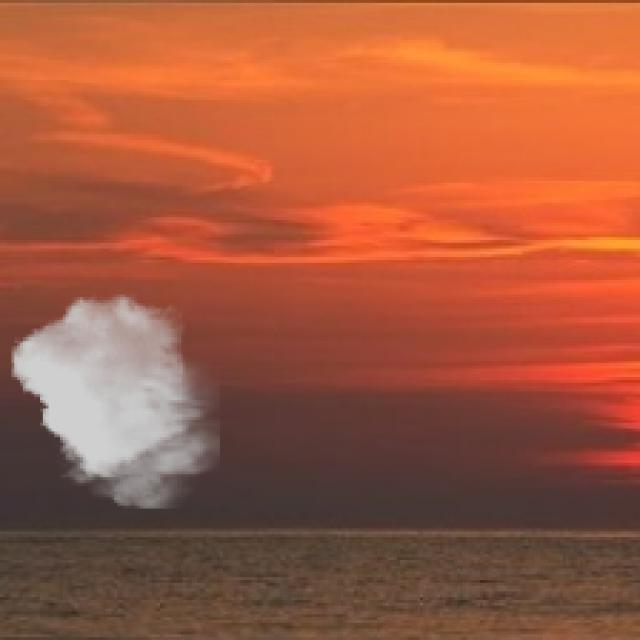Smoke: (11, 294, 220, 509)
